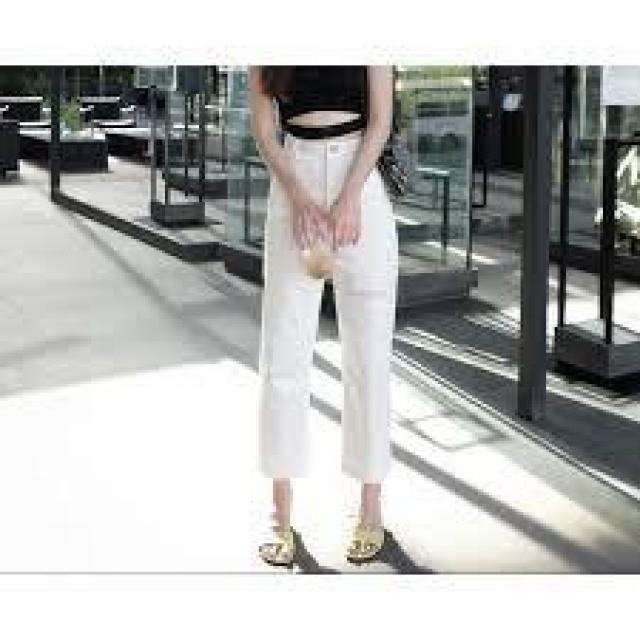pants: (256, 138, 404, 485)
